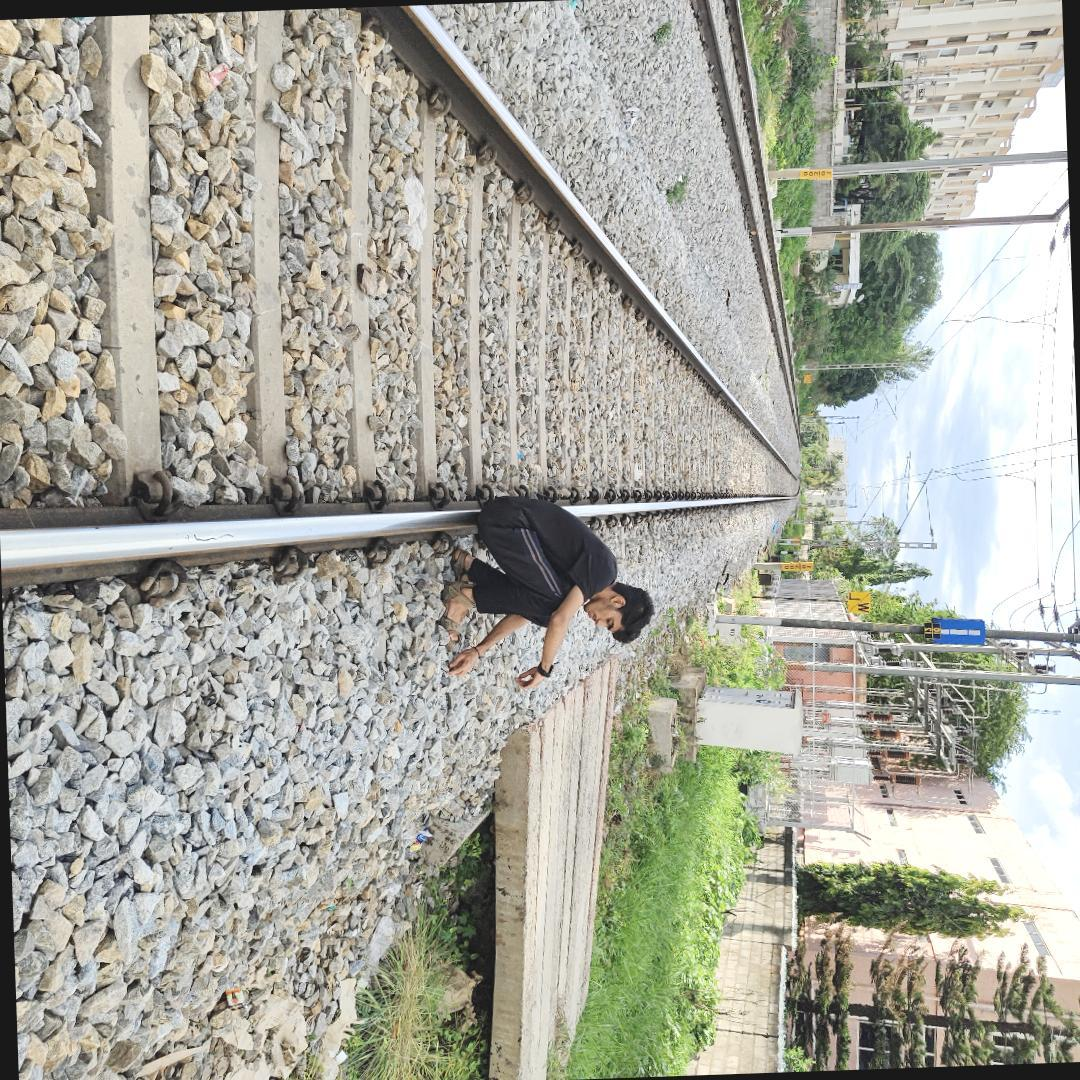sitting: (428, 480, 662, 682)
